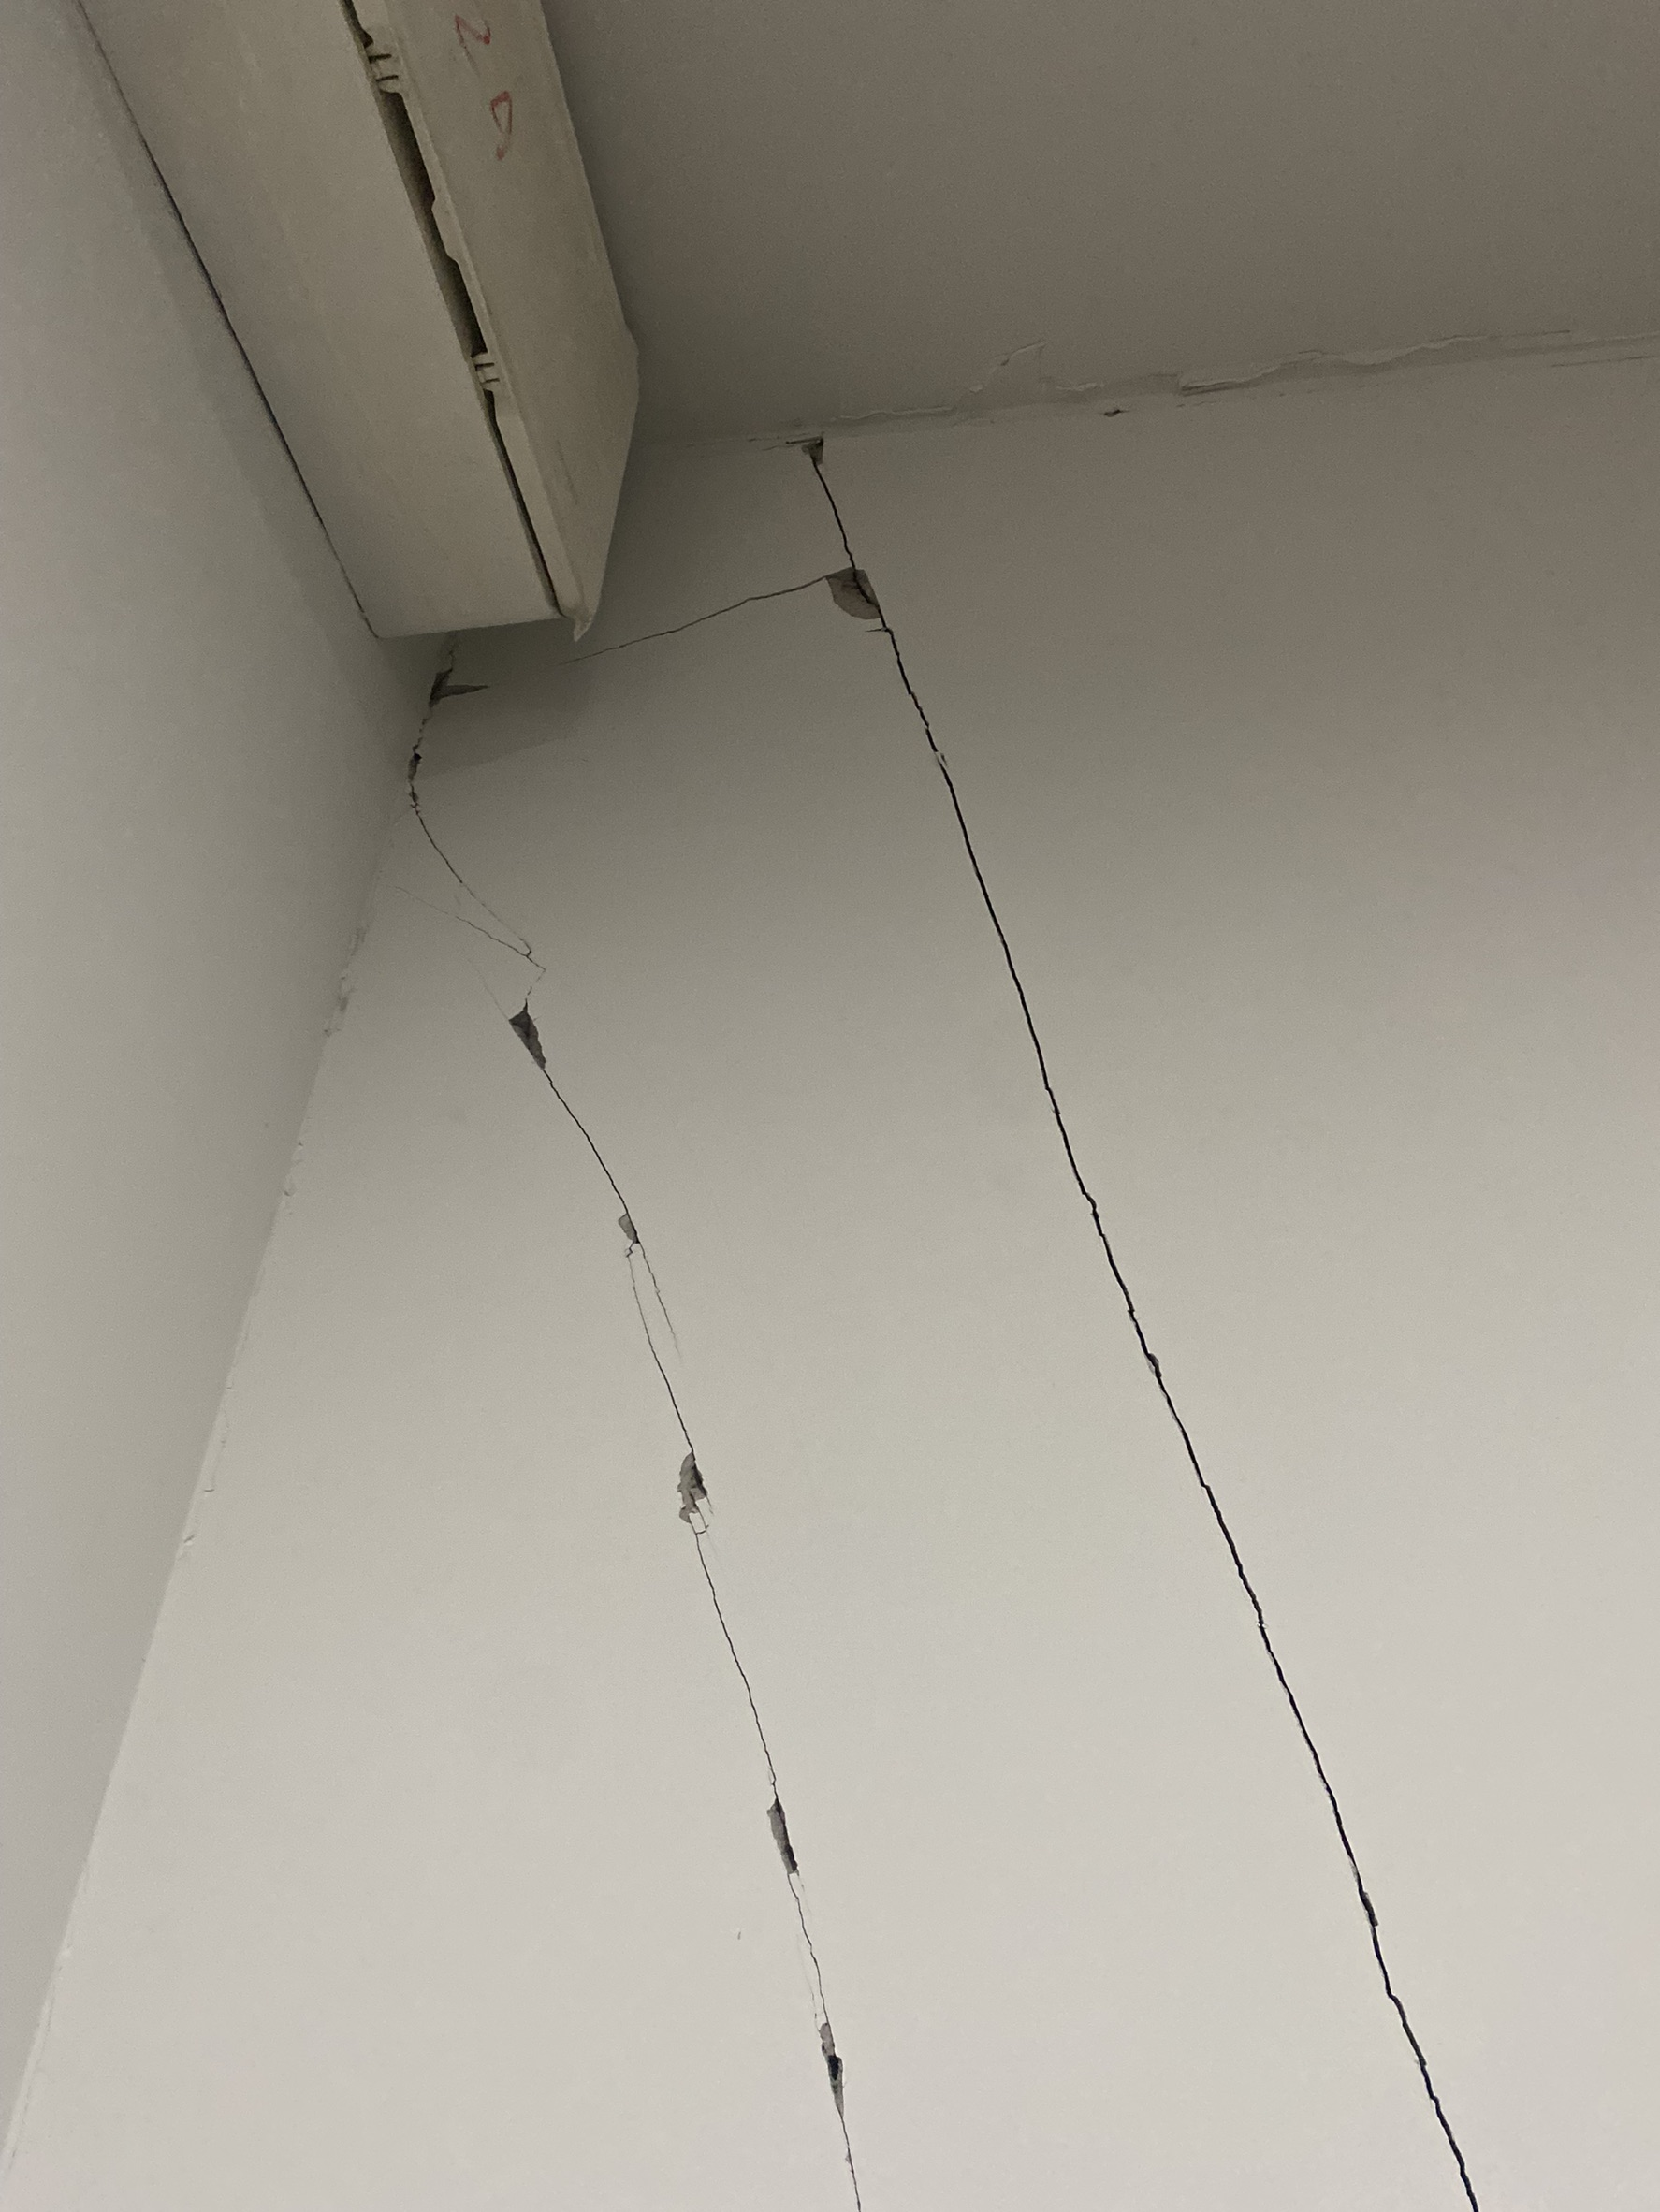Medium: (392, 690, 1514, 2172)
